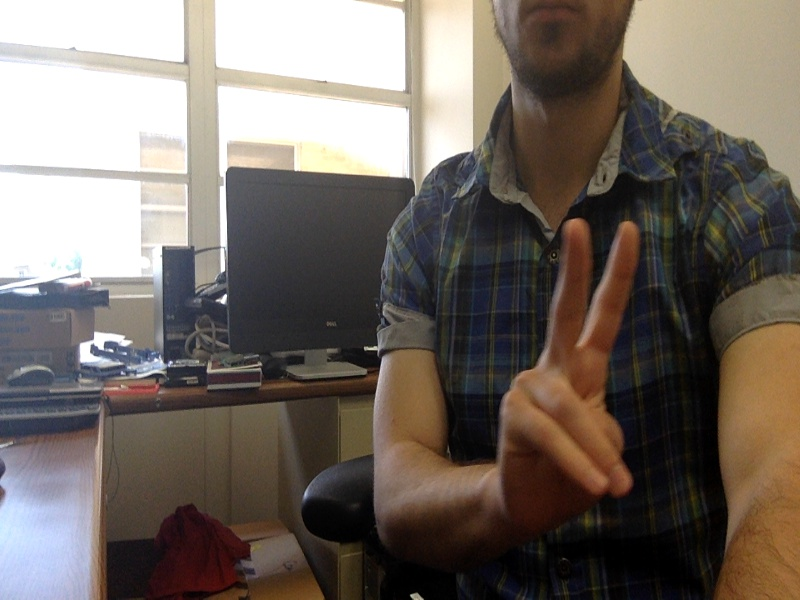2-hand: (494, 220, 645, 534)
